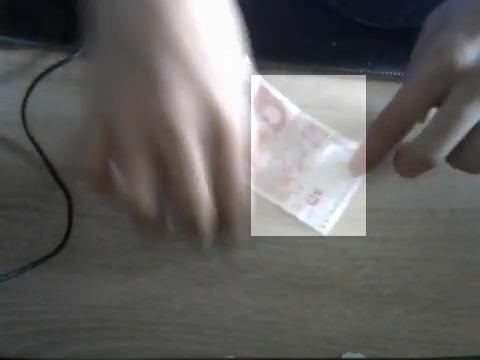5leva: (251, 75, 366, 236)
